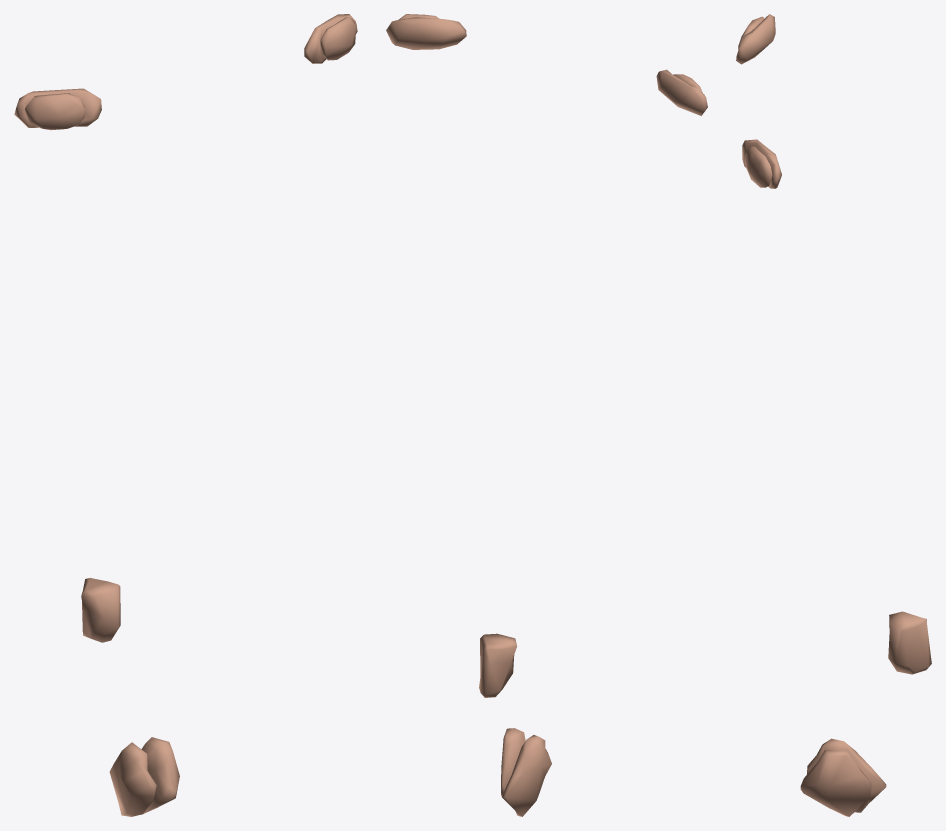
Rendered from icrp_adult_male.reproductive.LOD3.glb.
3 views of the same model, side by side, from view 1: azimuth 30°, elevation 25°; view 2: azimuth 150°, elevation 25°; view 3: azimuth 270°, elevation 25° (orthographic). The views are drawn at different scales.
Parts seen in each view (by area): view 1: ICRP.ADULT.MALE.REPRODUCTIVE.TESTIS.R, ICRP.ADULT.MALE.REPRODUCTIVE.PROSTATE, ICRP.ADULT.MALE.REPRODUCTIVE.BREAST_GLANDULAR_TISSUE.R, ICRP.ADULT.MALE.REPRODUCTIVE.TESTIS.L, ICRP.ADULT.MALE.REPRODUCTIVE.BREAST_ADIPOSE_TISSUE.R, ICRP.ADULT.MALE.REPRODUCTIVE.BREAST_GLANDULAR_TISSUE.L, ICRP.ADULT.MALE.REPRODUCTIVE.BREAST_ADIPOSE_TISSUE.L; view 2: ICRP.ADULT.MALE.REPRODUCTIVE.TESTIS.R, ICRP.ADULT.MALE.REPRODUCTIVE.BREAST_ADIPOSE_TISSUE.L, ICRP.ADULT.MALE.REPRODUCTIVE.PROSTATE, ICRP.ADULT.MALE.REPRODUCTIVE.BREAST_ADIPOSE_TISSUE.R, ICRP.ADULT.MALE.REPRODUCTIVE.TESTIS.L; view 3: ICRP.ADULT.MALE.REPRODUCTIVE.TESTIS.L, ICRP.ADULT.MALE.REPRODUCTIVE.PROSTATE, ICRP.ADULT.MALE.REPRODUCTIVE.TESTIS.R, ICRP.ADULT.MALE.REPRODUCTIVE.BREAST_ADIPOSE_TISSUE.R, ICRP.ADULT.MALE.REPRODUCTIVE.BREAST_GLANDULAR_TISSUE.L, ICRP.ADULT.MALE.REPRODUCTIVE.BREAST_ADIPOSE_TISSUE.L.
Part boxes in pixels (left/top/right/bottom): ICRP.ADULT.MALE.REPRODUCTIVE.TESTIS.R: left=109, top=742, right=156, bottom=816; ICRP.ADULT.MALE.REPRODUCTIVE.PROSTATE: left=81, top=578, right=120, bottom=642; ICRP.ADULT.MALE.REPRODUCTIVE.BREAST_GLANDULAR_TISSUE.R: left=24, top=93, right=84, bottom=130; ICRP.ADULT.MALE.REPRODUCTIVE.TESTIS.L: left=141, top=737, right=179, bottom=814; ICRP.ADULT.MALE.REPRODUCTIVE.BREAST_ADIPOSE_TISSUE.R: left=14, top=88, right=101, bottom=127; ICRP.ADULT.MALE.REPRODUCTIVE.BREAST_GLANDULAR_TISSUE.L: left=320, top=17, right=356, bottom=60; ICRP.ADULT.MALE.REPRODUCTIVE.BREAST_ADIPOSE_TISSUE.L: left=304, top=14, right=357, bottom=63; ICRP.ADULT.MALE.REPRODUCTIVE.TESTIS.R: left=501, top=735, right=551, bottom=816; ICRP.ADULT.MALE.REPRODUCTIVE.BREAST_ADIPOSE_TISSUE.L: left=386, top=17, right=466, bottom=49; ICRP.ADULT.MALE.REPRODUCTIVE.PROSTATE: left=479, top=633, right=517, bottom=697; ICRP.ADULT.MALE.REPRODUCTIVE.BREAST_ADIPOSE_TISSUE.R: left=656, top=69, right=707, bottom=115; ICRP.ADULT.MALE.REPRODUCTIVE.TESTIS.L: left=501, top=728, right=525, bottom=795; ICRP.ADULT.MALE.REPRODUCTIVE.TESTIS.L: left=800, top=750, right=871, bottom=816; ICRP.ADULT.MALE.REPRODUCTIVE.PROSTATE: left=888, top=611, right=931, bottom=674; ICRP.ADULT.MALE.REPRODUCTIVE.TESTIS.R: left=807, top=738, right=886, bottom=812; ICRP.ADULT.MALE.REPRODUCTIVE.BREAST_ADIPOSE_TISSUE.R: left=736, top=14, right=775, bottom=64; ICRP.ADULT.MALE.REPRODUCTIVE.BREAST_GLANDULAR_TISSUE.L: left=744, top=146, right=772, bottom=187; ICRP.ADULT.MALE.REPRODUCTIVE.BREAST_ADIPOSE_TISSUE.L: left=742, top=139, right=781, bottom=188.
Size of the model in its own units: 0.2579 by 0.568 by 0.1369.
